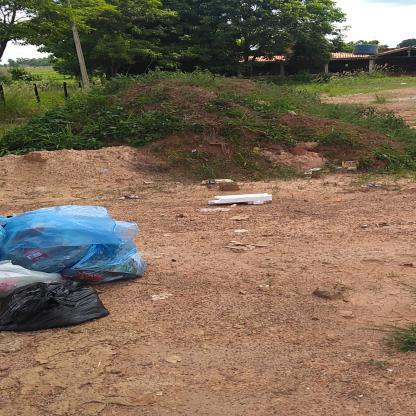lixo: (5, 206, 154, 328)
